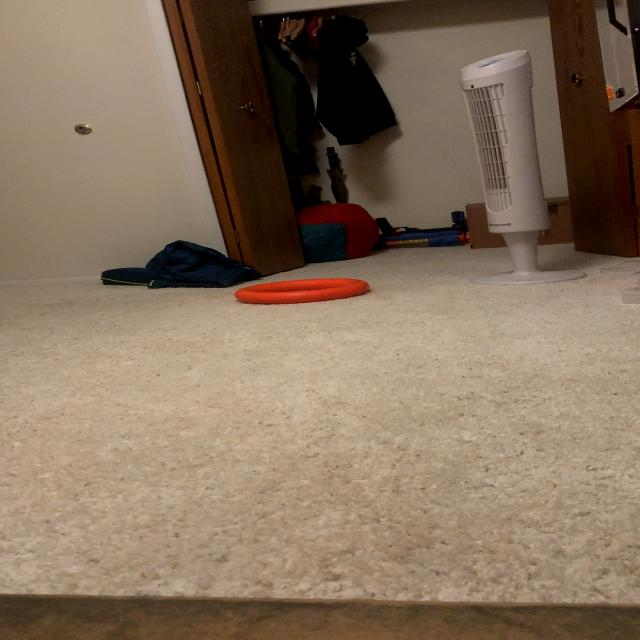notes: (240, 279, 372, 303)
